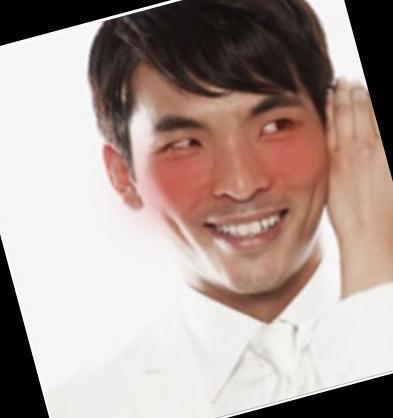Drunk: (140, 68, 320, 280)
